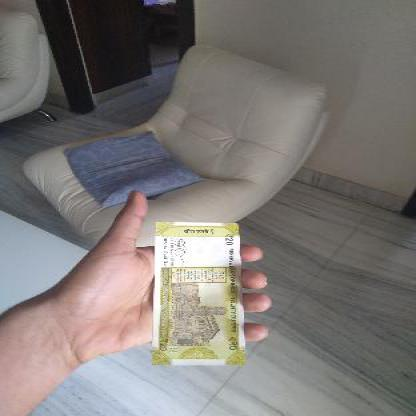New20Back: (156, 222, 237, 365)
